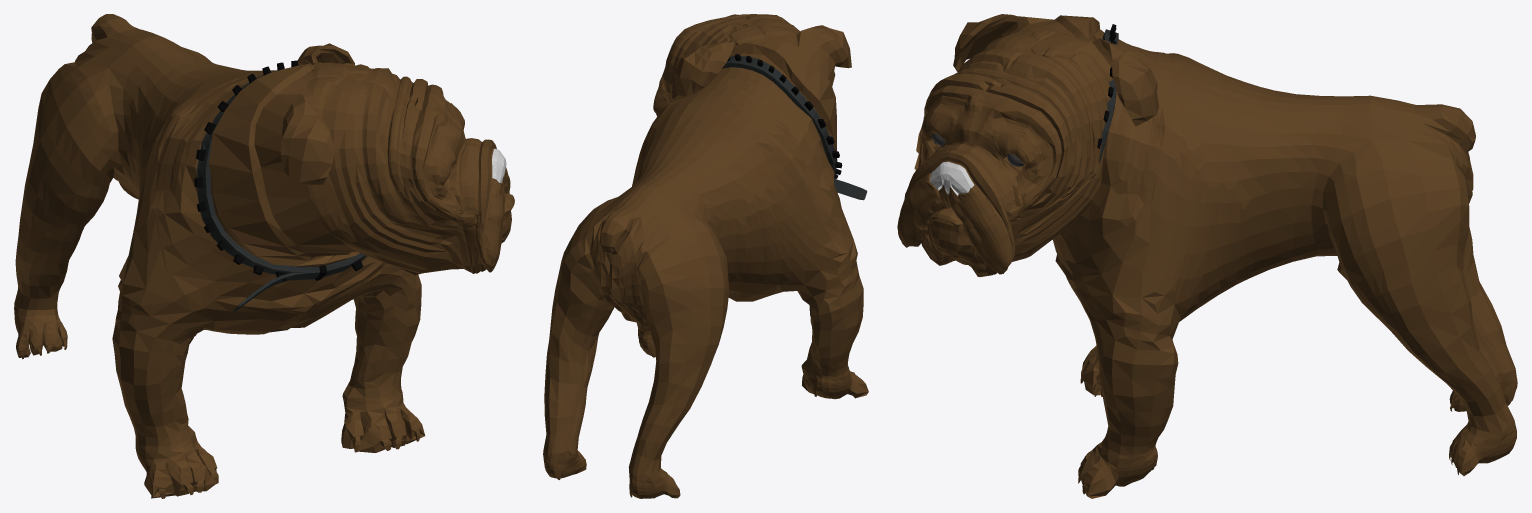
Rendered from bulldog.obj.
The picture shows the model from 3 angles, left to right: view 1: azimuth 30°, elevation 25°; view 2: azimuth 150°, elevation 25°; view 3: azimuth 270°, elevation 25°; orthographic projection. The views are drawn at different scales.
Parts seen in each view (by area): view 1: Bulldog.001; view 2: Bulldog.001; view 3: Bulldog.001.
Boxes of the visible parts, bbox=[...] form: Bulldog.001: bbox=[14, 14, 514, 498]; Bulldog.001: bbox=[543, 14, 868, 498]; Bulldog.001: bbox=[897, 14, 1517, 498].
Size of the model in its own units: 38.75 by 47.39 by 64.53.
